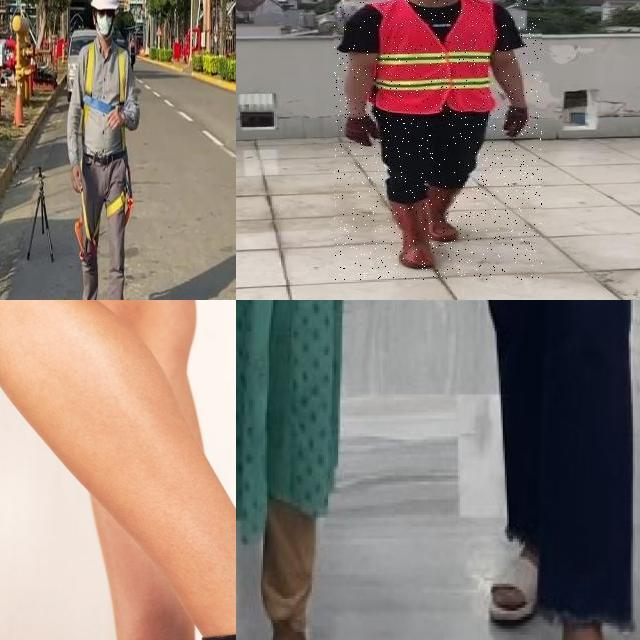Harness: (83, 42, 128, 126)
Sandals: (558, 599, 640, 640)
boots: (392, 201, 438, 270), (434, 188, 469, 243)
person: (334, 0, 542, 281)
vest: (375, 0, 496, 114)
